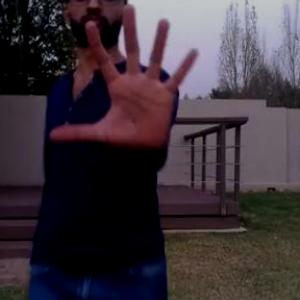follow_hand: (46, 1, 205, 155)
